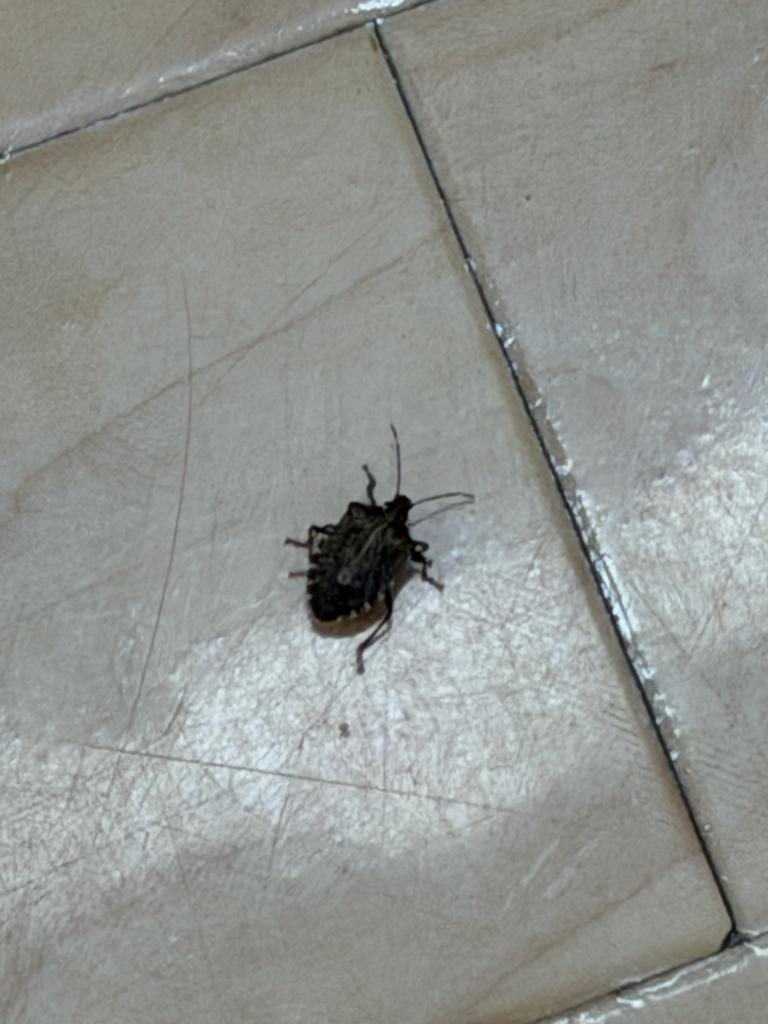stink_bugs: (251, 397, 502, 693)
